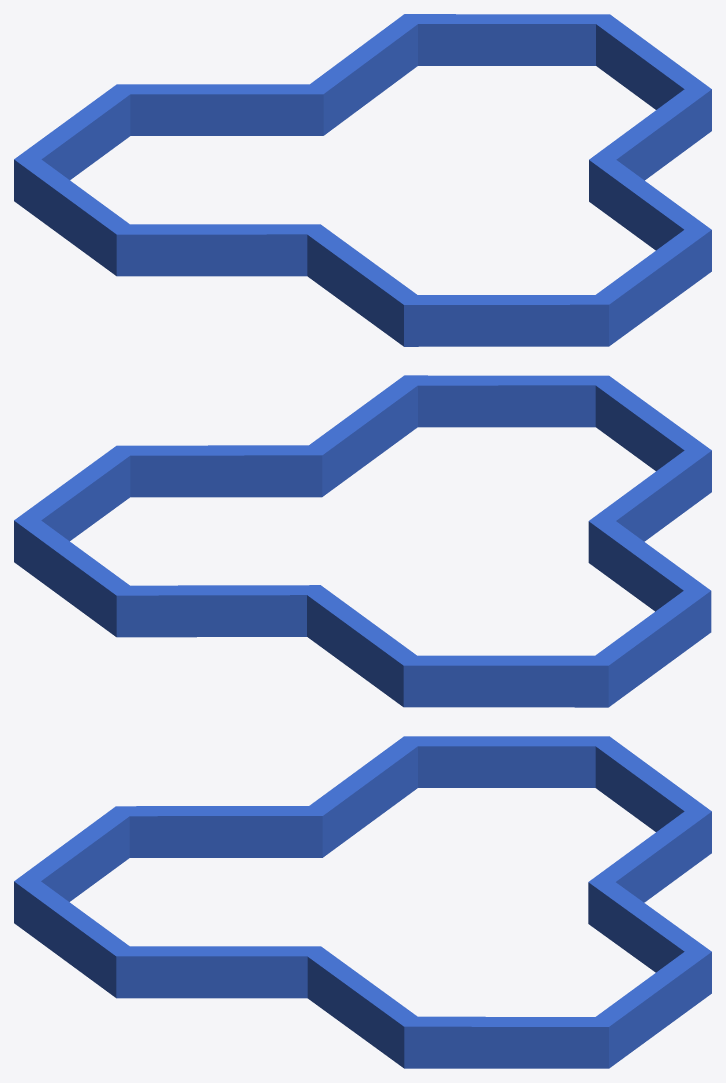
The model's file is Preview_3hex.fbx.
3 renders of one model, top to bottom at view 1: azimuth 30°, elevation 25°; view 2: azimuth 150°, elevation 25°; view 3: azimuth 270°, elevation 25°, orthographic.
Parts seen in each view (by area): view 1: Plane; view 2: Plane; view 3: Plane.
Part boxes in pixels (x1,y1,x2,y2): Plane: (14,14,711,346); Plane: (14,375,711,707); Plane: (14,736,711,1068).
Bounding box in the file's own units: 5500 × 369 × 5582.
